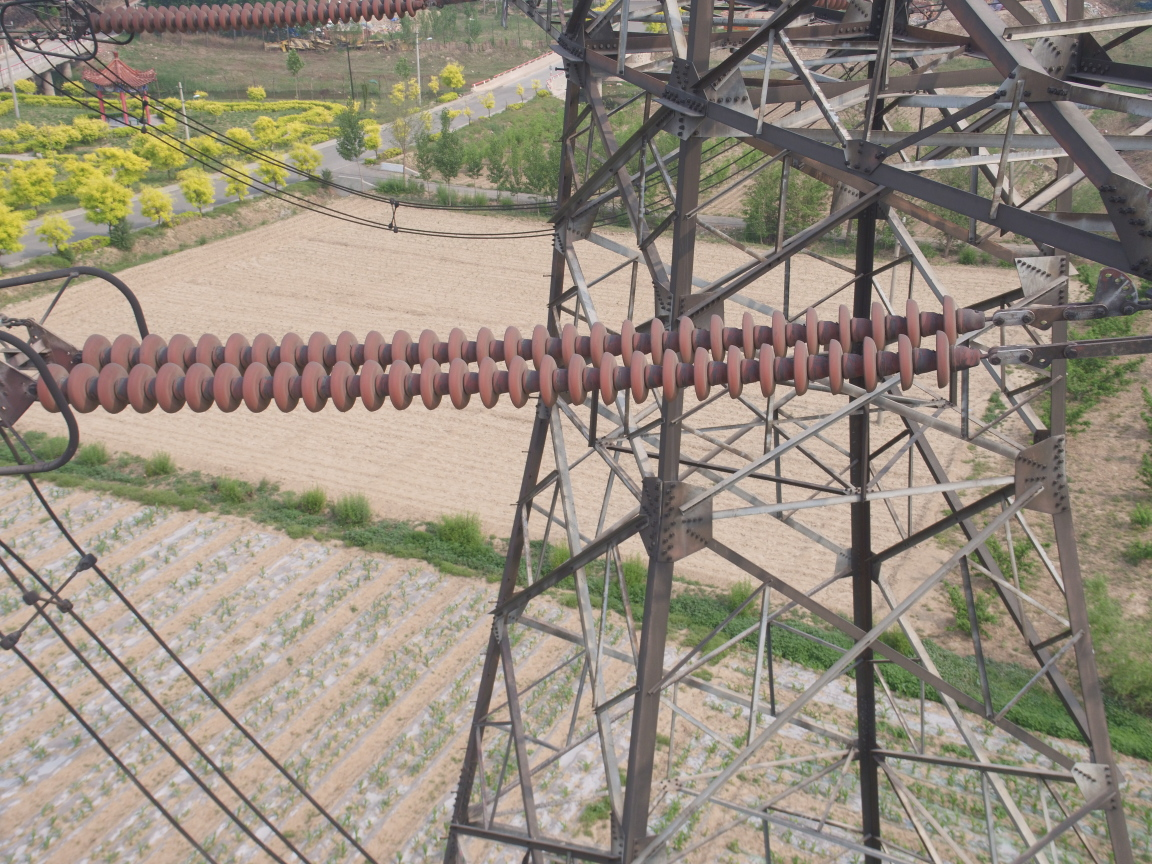insulator: (23, 290, 1051, 415), (63, 1, 448, 36)
